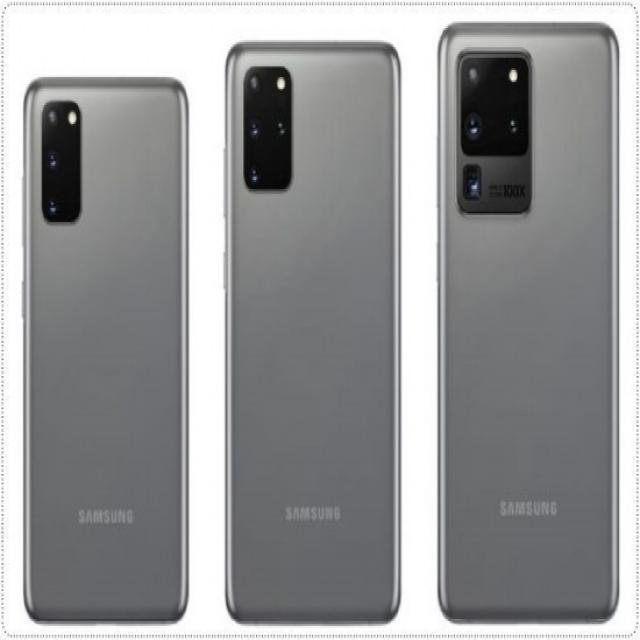phone: (436, 18, 620, 625), (220, 37, 403, 626), (19, 72, 190, 628)
